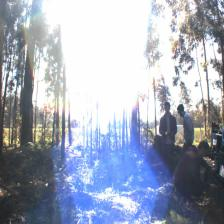trunktrack_idkeyframe: (20, 59, 34, 146), (130, 111, 139, 150), (60, 104, 66, 160)
